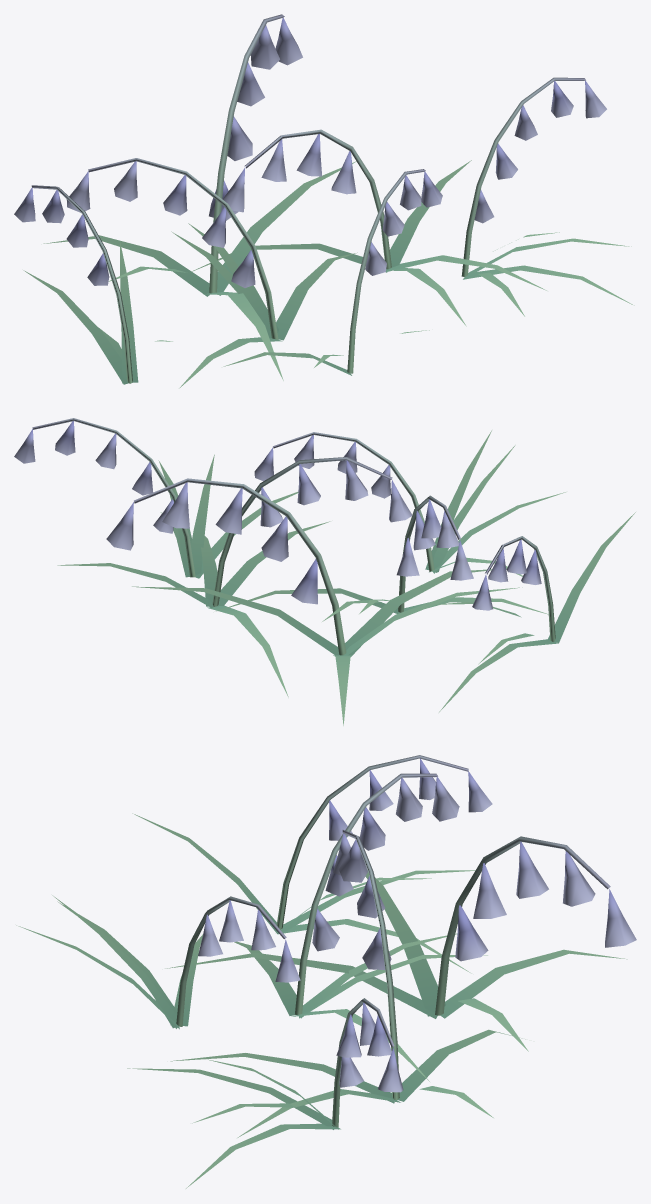
The model's file is bluebell_patch_c.glb.
3 renders of one model, top to bottom at view 1: azimuth 30°, elevation 25°; view 2: azimuth 150°, elevation 25°; view 3: azimuth 270°, elevation 25°, orthographic. The views are drawn at different scales.
Parts seen in each view (by area): view 1: soft; view 2: soft; view 3: soft.
Boxes of the visible parts, <box> form: soft: <box>14,14,634,388</box>; soft: <box>14,418,635,725</box>; soft: <box>16,755,636,1188</box>.
Bounding box in the file's own units: 0.9107 × 0.3611 × 0.8053.
